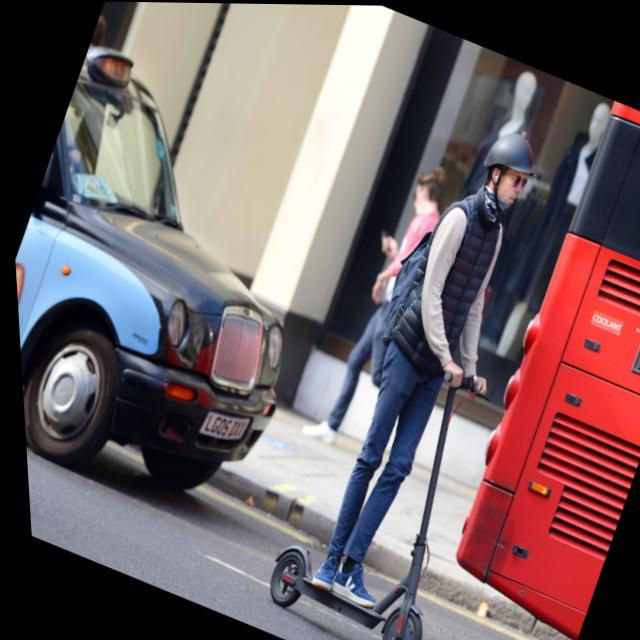Helmet: (476, 129, 544, 221)
